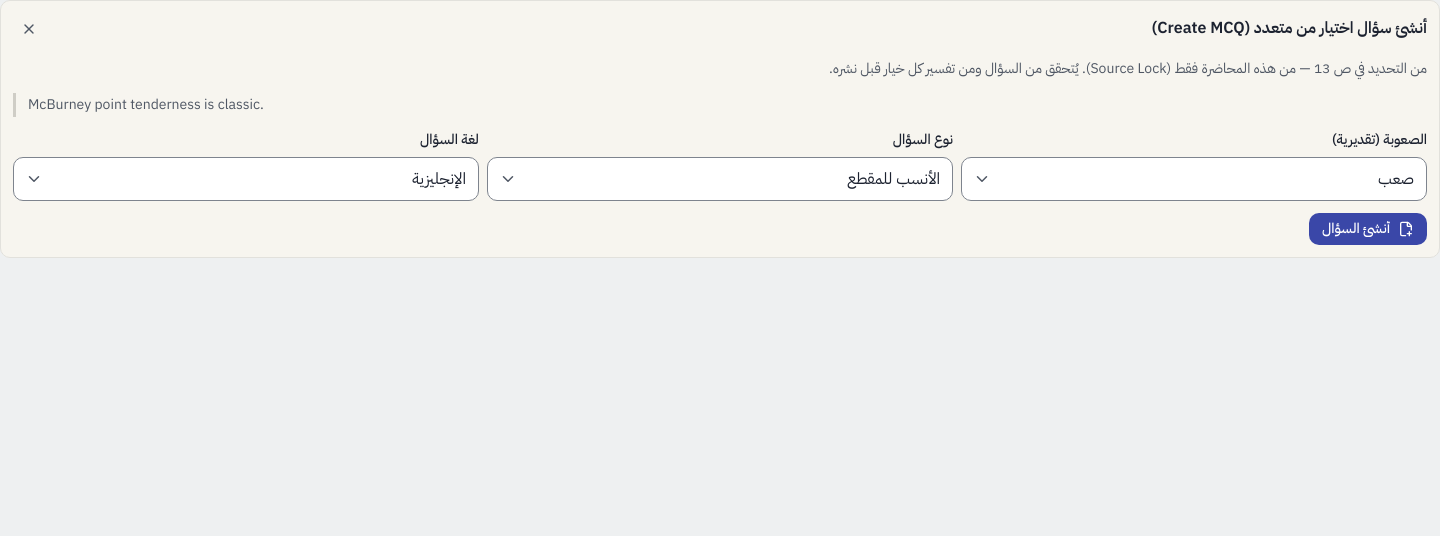
Test: Create MCQ from a selection › sends the selection as the generation anchor (origin «selection») and shows a published question as generated
Click the button "أنشئ السؤال": {"x": 1368, "y": 229} [1309,213,1427,245]
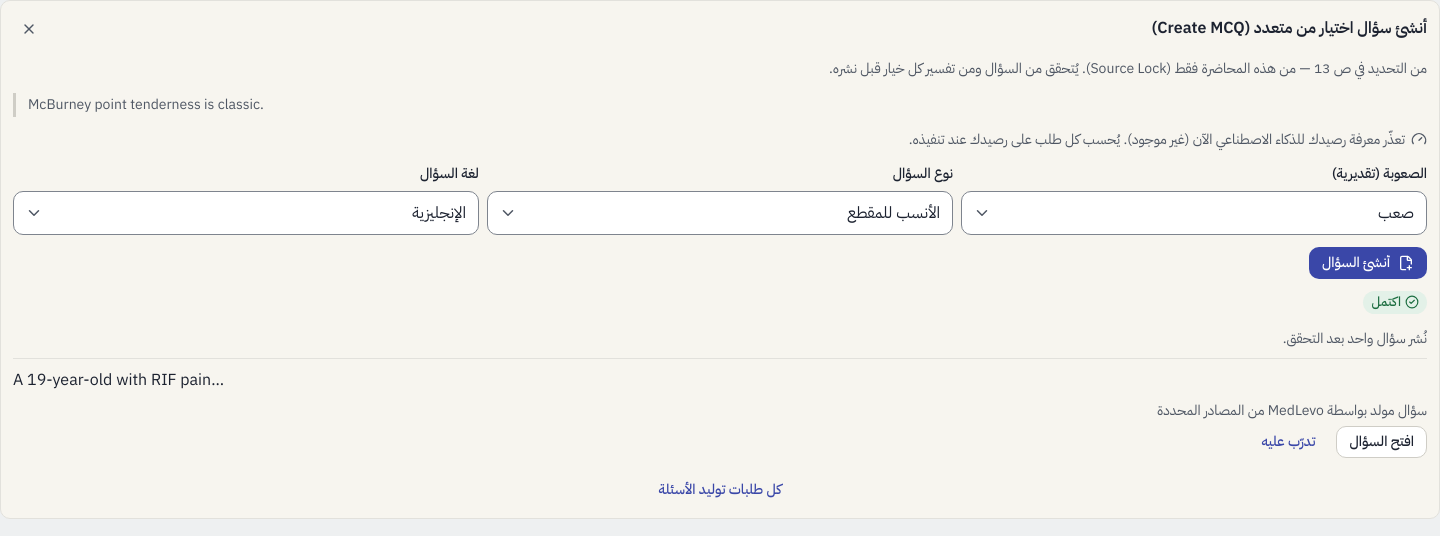
Check: the text "A 19-year-old with RIF pain…" is shown, box [13,368,224,392]
Check: the text "سؤال مولد بواسطة MedLevo من المصادر المحددة" is shown, box [1157,400,1427,421]
